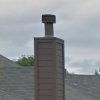Chimney: (28, 12, 65, 99)
